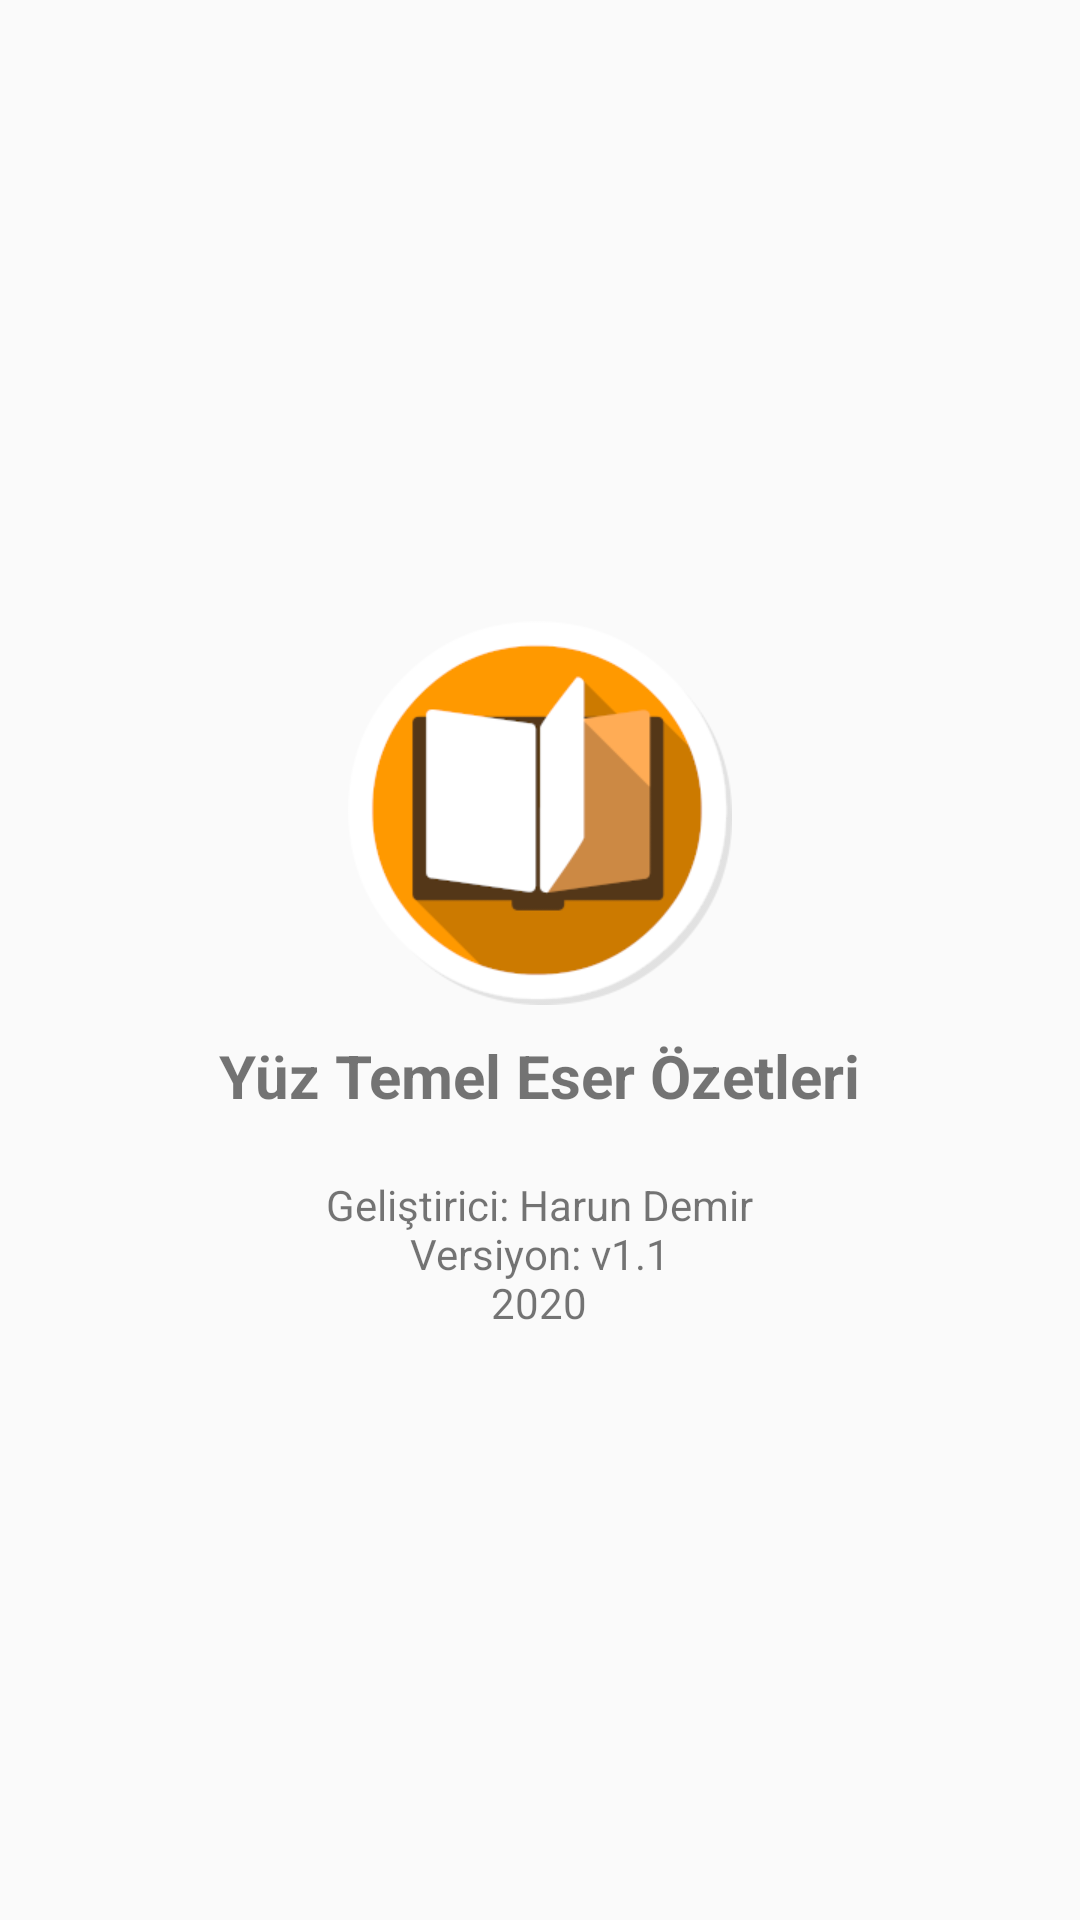

Icon click points for this 1080*1920 phone screenshot, format (x=x, y=y):
book: (x=552, y=825)
